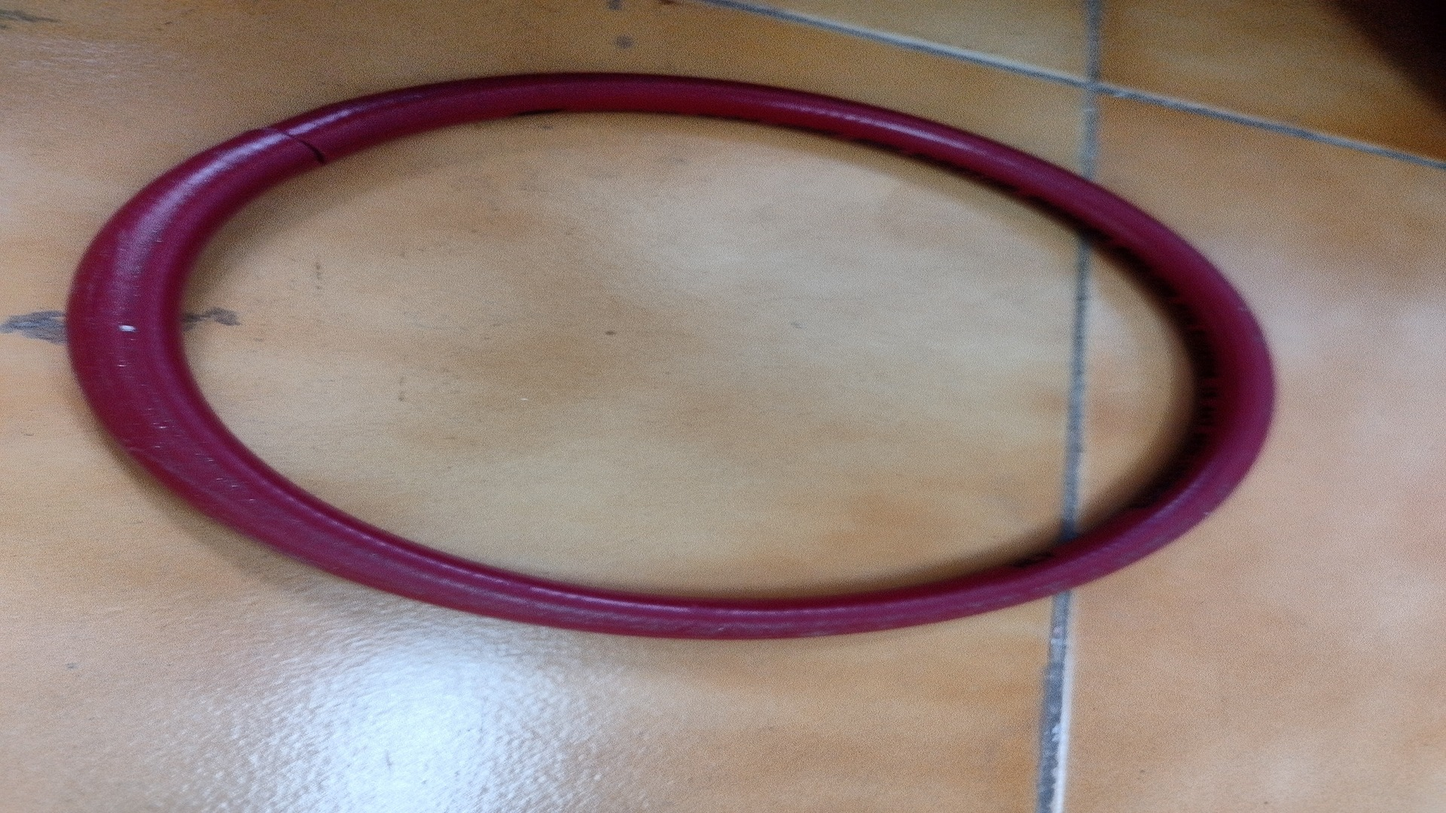Red ring: (70, 73, 1277, 643)
